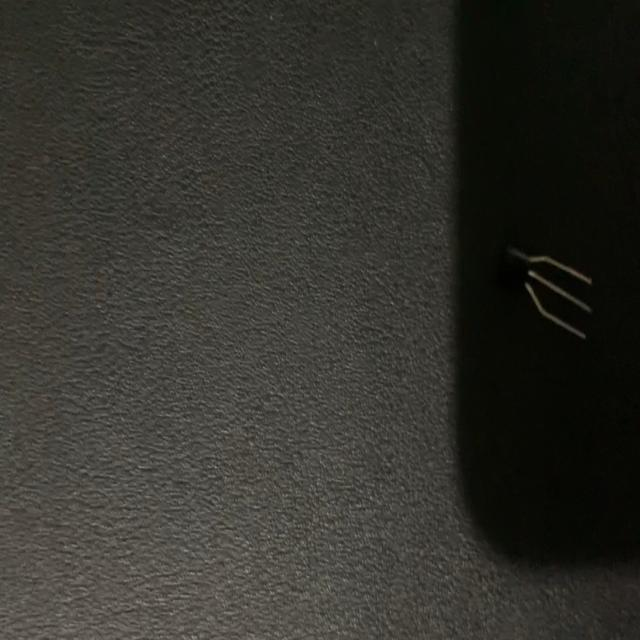BJT: (494, 237, 593, 345)
